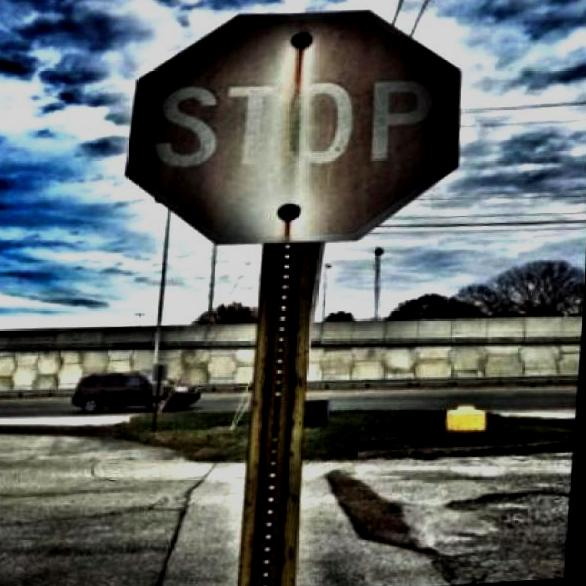stop_sign: (119, 3, 471, 266)
